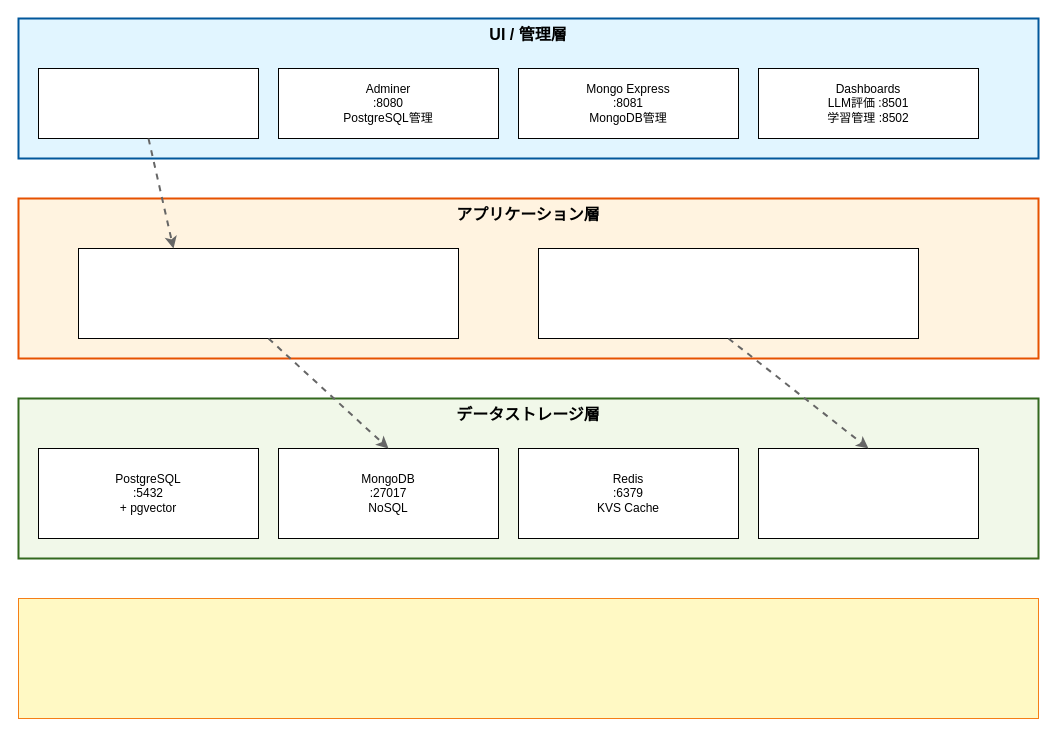
Image size: 1056x736. Some labels were removed from this diagram. The centre of each missing label's shape, as x and y in pixels:
"Ollama :11434 Gemma2:9b Qwen2.5:7b" goes at [268,293].
"Open WebUI :3000 LLM Chat" goes at [148,103].
"Qdrant :6333 Vector Search" goes at [868,493].
"RAG API :8003 FastAPI Knowledge Search" goes at [728,293].
"システム構成 完全ローカル環境 (Docker Compose) RAGシステムによる知識拡張LLM 学習セッション記録・目標管理機能 マルチモデル対応" goes at [528,658].
